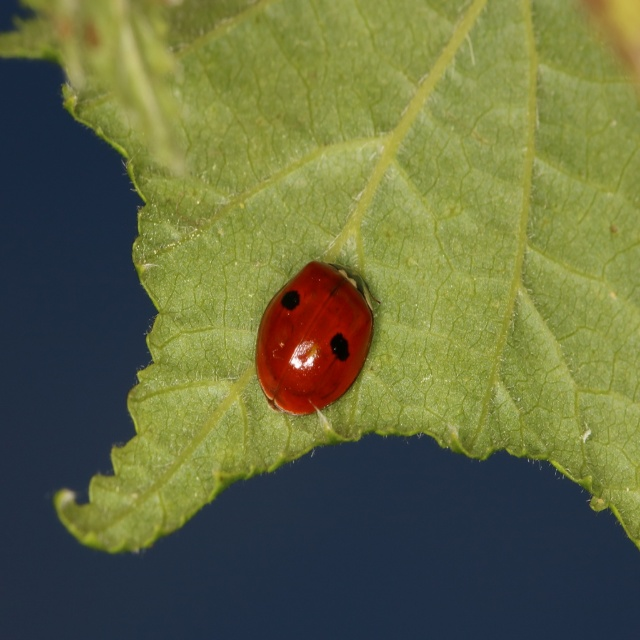Ladybug: (251, 258, 382, 417)
